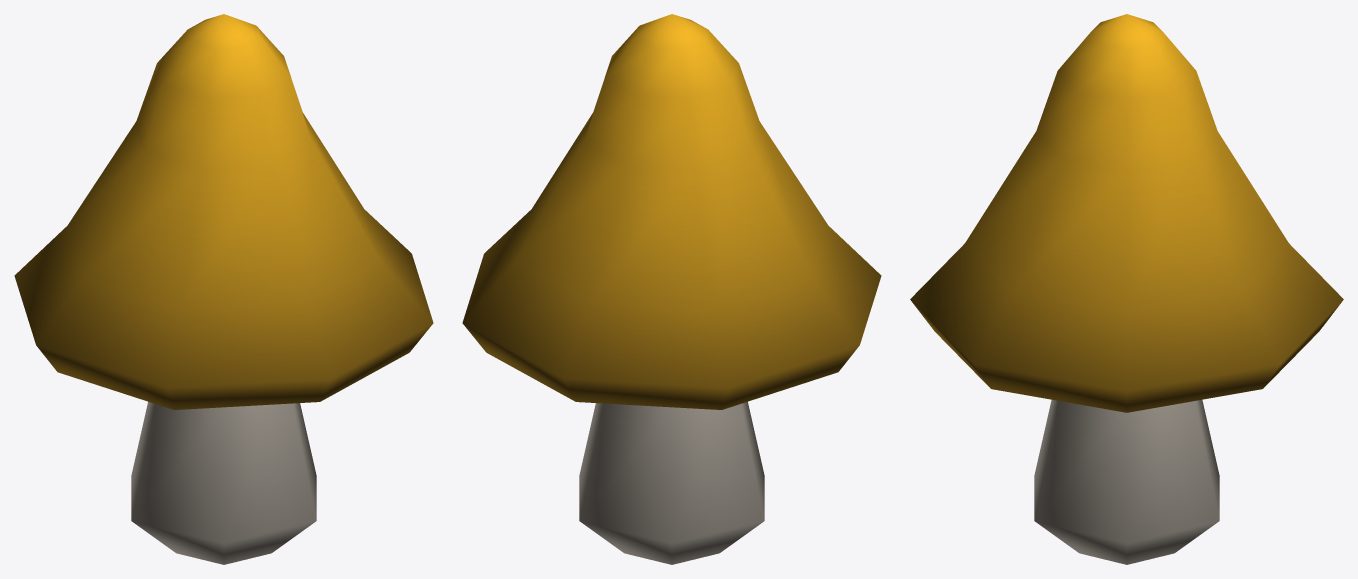
File: SM_Mushroom_9.fbx
3 views of the same model, side by side, from view 1: azimuth 30°, elevation 25°; view 2: azimuth 150°, elevation 25°; view 3: azimuth 270°, elevation 25° (orthographic).
Parts seen in each view (by area): view 1: Mushroom_9; view 2: Mushroom_9; view 3: Mushroom_9.
Part boxes in pixels (box(x1,y1,x2,y2)): Mushroom_9: box(14, 14, 433, 564); Mushroom_9: box(462, 14, 881, 564); Mushroom_9: box(910, 14, 1343, 564).
Bounding box in the file's own units: 212 × 284 × 212.
Materials: 1 (1 with a texture image).
